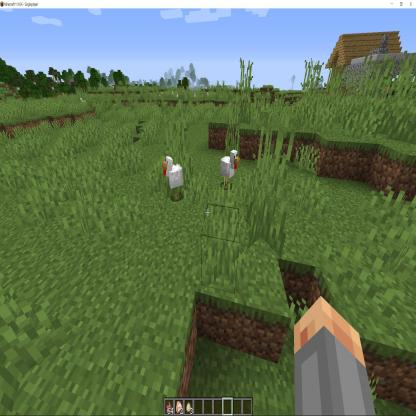minecraft-pigs: (162, 153, 184, 204), (219, 148, 239, 192), (77, 96, 87, 109), (184, 90, 188, 100), (193, 92, 196, 100), (175, 93, 178, 99)
